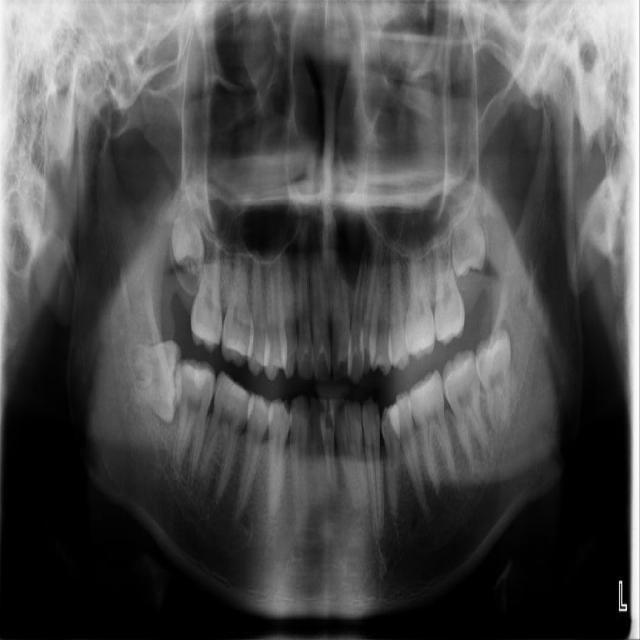impacted tooth: (125, 340, 177, 423), (478, 333, 514, 434)
